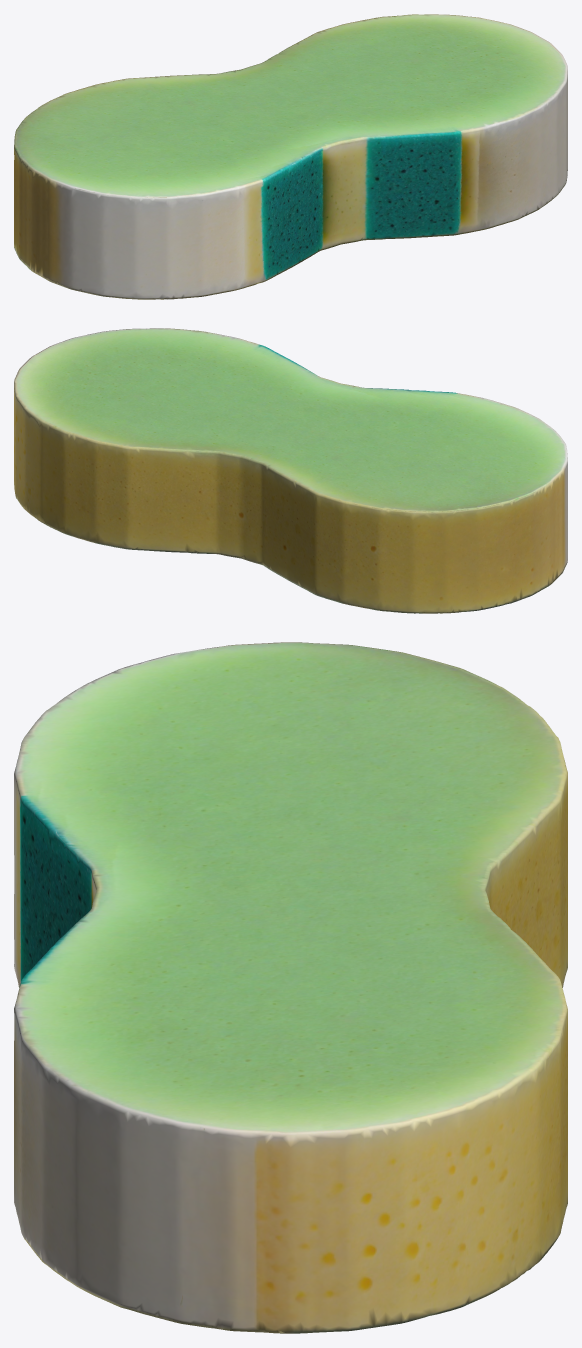
Rendered from dishwashing_sponge_1108210150_refine.fbx.
3 views of the same model, one above another, from view 1: azimuth 30°, elevation 25°; view 2: azimuth 150°, elevation 25°; view 3: azimuth 270°, elevation 25° (orthographic). The views are drawn at different scales.
Visible parts, largest first — view 1: Mesh_0; view 2: Mesh_0; view 3: Mesh_0.
Part boxes in pixels (x1,y1,x2,y2): Mesh_0: (14,14,567,299); Mesh_0: (14,328,567,613); Mesh_0: (14,642,567,1333).
Bounding box in the file's own units: 200 × 38.08 × 95.07.
Materials: 1 (1 with a texture image).
